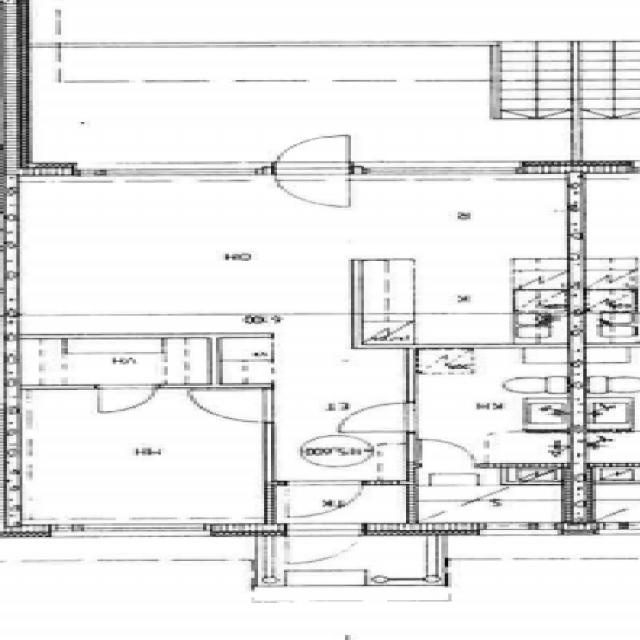door: (286, 524, 363, 570), (273, 162, 349, 208), (273, 129, 349, 174), (287, 480, 364, 519), (193, 391, 276, 422), (336, 402, 419, 432), (98, 384, 155, 415), (420, 440, 474, 468)
